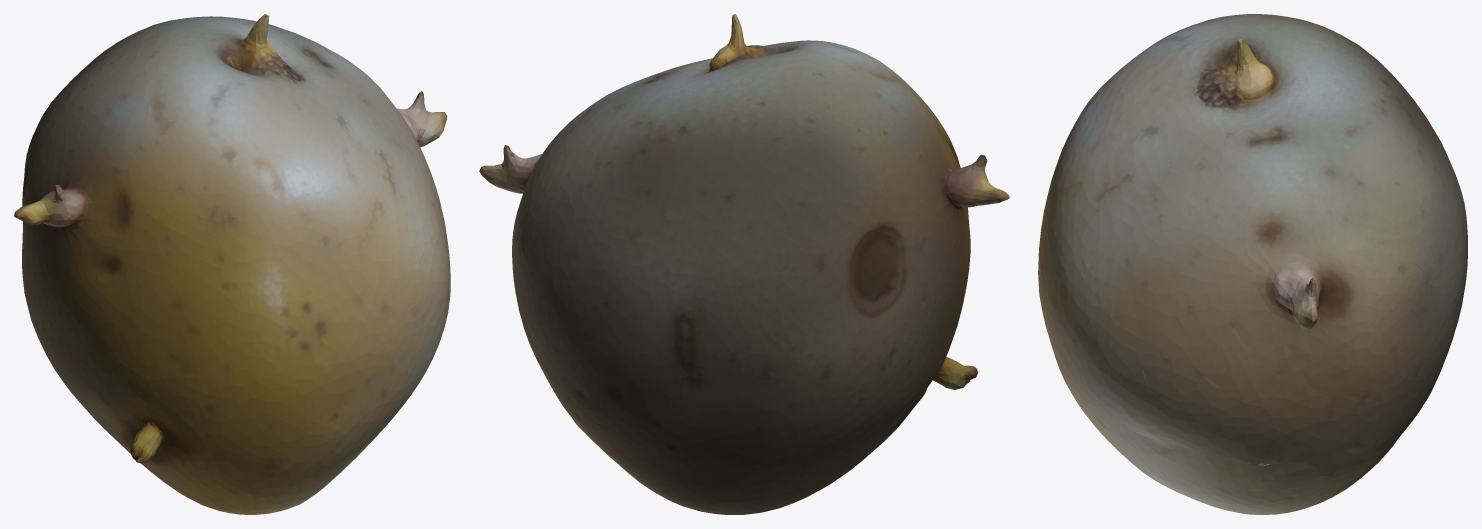
File: potato_ai_mesh_2.glb
The picture shows the model from 3 angles, left to right: view 1: azimuth 30°, elevation 25°; view 2: azimuth 150°, elevation 25°; view 3: azimuth 270°, elevation 25°; orthographic projection. The views are drawn at different scales.
Visible parts, largest first — view 1: world; view 2: world; view 3: world.
Part boxes in pixels (left/top/right/bottom): world: left=14, top=14, right=450, bottom=514; world: left=479, top=14, right=1009, bottom=514; world: left=1038, top=14, right=1467, bottom=514.
Size of the model in its own units: 0.6988 by 0.6694 by 0.5523.
1 material, 1 textured.
